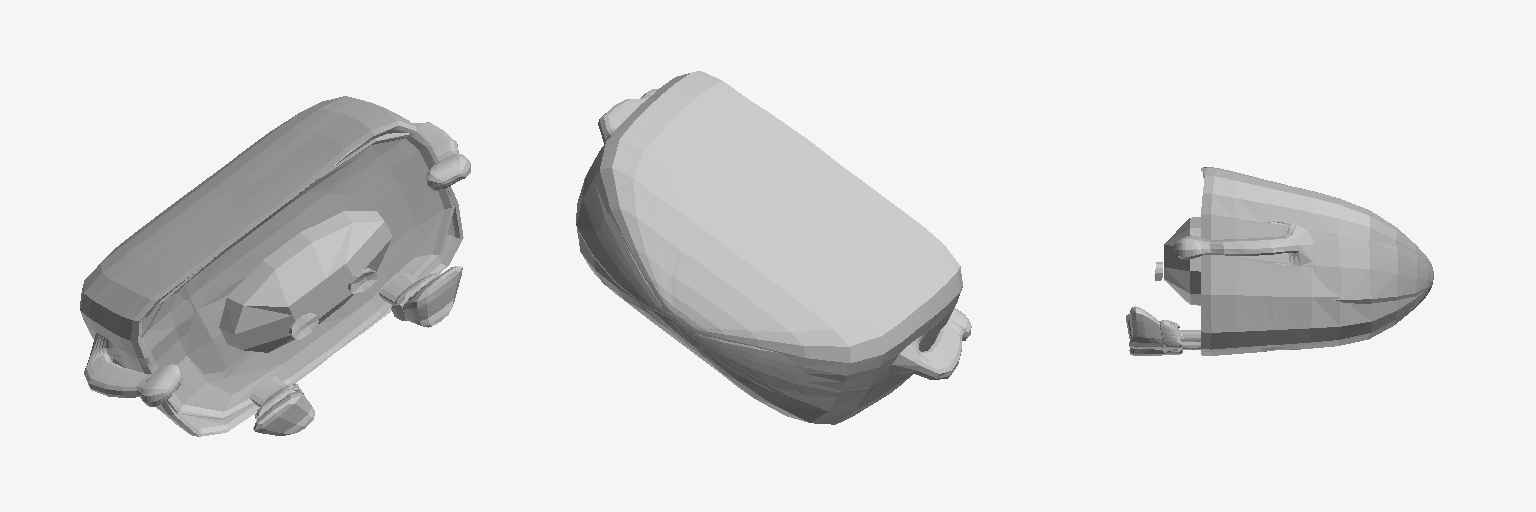
Rendered from Pal_000029.obj.
3 views of the same model, side by side, from view 1: azimuth 30°, elevation 25°; view 2: azimuth 150°, elevation 25°; view 3: azimuth 270°, elevation 25° (orthographic).
Parts seen in each view (by area): view 1: Cuerpo_de_aguacate_3.001_Cube.002, Hueso_Cubo.003, Ojos_Cubo.002; view 2: Cuerpo_de_aguacate_3.001_Cube.002; view 3: Cuerpo_de_aguacate_3.001_Cube.002, Hueso_Cubo.003.
Boxes of the visible parts, x1,y1,x2,y2 form: Cuerpo_de_aguacate_3.001_Cube.002: [80, 96, 470, 436]; Hueso_Cubo.003: [219, 211, 392, 352]; Ojos_Cubo.002: [289, 268, 377, 339]; Cuerpo_de_aguacate_3.001_Cube.002: [576, 71, 971, 424]; Cuerpo_de_aguacate_3.001_Cube.002: [1126, 167, 1433, 355]; Hueso_Cubo.003: [1164, 217, 1200, 305].
Size of the model in its own units: 1.33 by 0.9605 by 1.01.